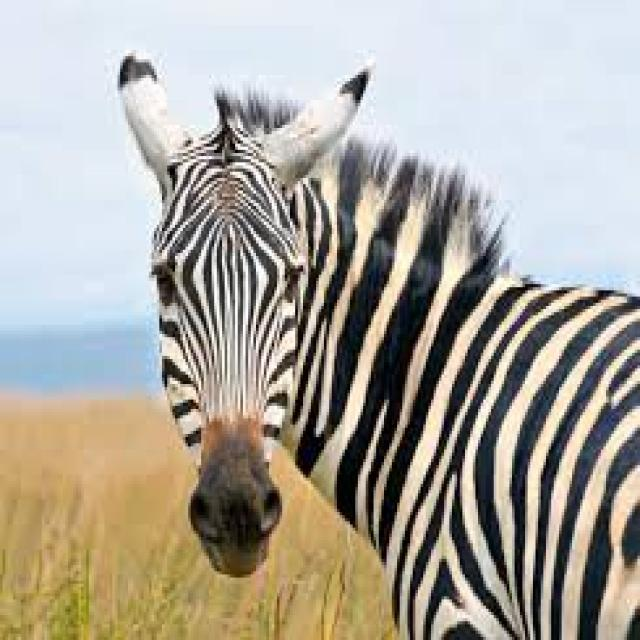Zebra: (121, 53, 640, 640)
